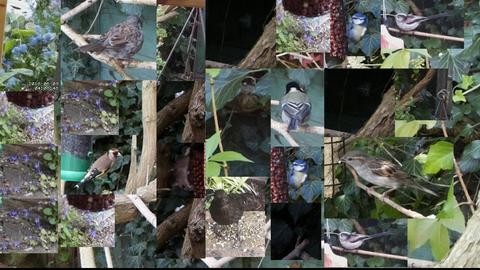blackbird: (208, 189, 252, 244)
blue tit: (342, 12, 368, 50), (283, 159, 309, 197)
dunnock: (73, 12, 144, 68)
goldfinch: (73, 148, 124, 192)
great tit: (280, 81, 312, 134)
long tailed tit: (393, 12, 452, 35), (337, 231, 395, 254)
mouse: (172, 155, 192, 192)
sparrow: (337, 150, 441, 206)
